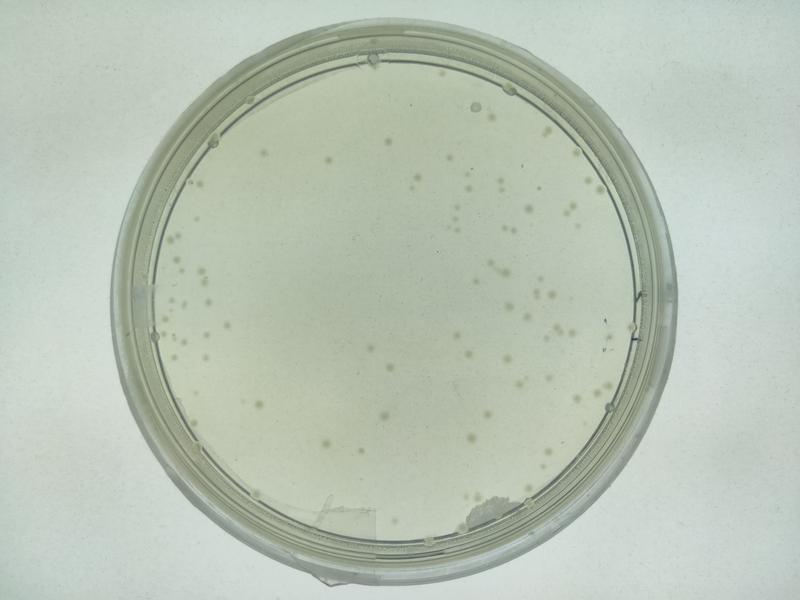colony: (440, 144, 470, 174), (251, 393, 277, 417), (463, 427, 489, 451), (499, 294, 525, 318), (376, 128, 399, 155), (474, 400, 501, 422), (358, 334, 383, 357), (314, 433, 342, 452), (315, 151, 339, 172), (375, 403, 400, 423), (496, 344, 515, 370), (520, 200, 543, 221), (446, 321, 466, 345), (541, 284, 566, 303), (378, 359, 404, 377), (350, 440, 371, 462), (457, 348, 481, 365)
